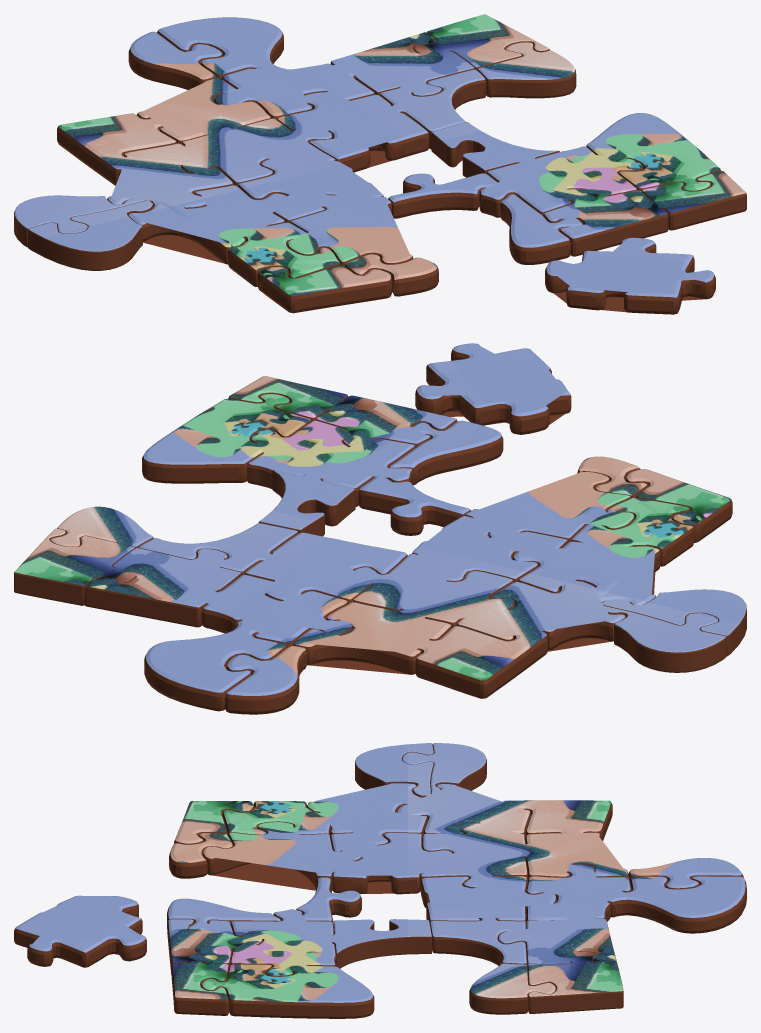
File: puzzle.fbx
The picture shows the model from 3 angles, top to bottom: view 1: azimuth 30°, elevation 25°; view 2: azimuth 150°, elevation 25°; view 3: azimuth 270°, elevation 25°; orthographic projection. The views are drawn at different scales.
Parts seen in each view (by area): view 1: BezierCircle.008, BezierCircle.020, BezierCircle.006, BezierCircle.011, BezierCircle.004, BezierCircle.012, BezierCircle.019, BezierCircle.016, BezierCircle.014, BezierCircle.025, BezierCircle.029, BezierCircle.018 (+16 smaller); view 2: BezierCircle.008, BezierCircle.012, BezierCircle.024, BezierCircle.011, BezierCircle.026, BezierCircle.018, BezierCircle.029, BezierCircle.004, BezierCircle.020, BezierCircle.019, BezierCircle.006, BezierCircle.025 (+16 smaller); view 3: BezierCircle.008, BezierCircle.012, BezierCircle.004, BezierCircle.029, BezierCircle.007, BezierCircle.011, BezierCircle.020, BezierCircle.019, BezierCircle.023, BezierCircle.006, BezierCircle.018, BezierCircle.025 (+16 smaller).
Boxes of the visible parts, <box> form: BezierCircle.008: <box>545,237,715,314</box>; BezierCircle.020: <box>277,92,429,172</box>; BezierCircle.006: <box>128,185,288,264</box>; BezierCircle.011: <box>479,146,643,217</box>; BezierCircle.004: <box>287,195,413,265</box>; BezierCircle.012: <box>586,113,720,191</box>; BezierCircle.019: <box>181,118,335,186</box>; BezierCircle.016: <box>28,200,153,270</box>; BezierCircle.014: <box>543,189,668,256</box>; BezierCircle.025: <box>214,63,374,119</box>; BezierCircle.029: <box>157,17,285,78</box>; BezierCircle.018: <box>107,143,233,208</box>; BezierCircle.008: <box>415,343,571,434</box>; BezierCircle.012: <box>142,394,311,483</box>; BezierCircle.024: <box>84,548,241,627</box>; BezierCircle.011: <box>247,420,415,506</box>; BezierCircle.026: <box>292,600,452,674</box>; BezierCircle.018: <box>457,580,625,651</box>; BezierCircle.029: <box>144,620,287,711</box>; BezierCircle.004: <box>465,471,634,542</box>; BezierCircle.020: <box>245,532,407,603</box>; BezierCircle.019: <box>353,553,515,627</box>; BezierCircle.006: <box>512,541,660,605</box>; BezierCircle.025: <box>190,574,353,647</box>; BezierCircle.008: <box>14,895,146,967</box>; BezierCircle.012: <box>201,964,374,1018</box>; BezierCircle.004: <box>203,822,362,890</box>; BezierCircle.029: <box>605,876,746,933</box>; BezierCircle.007: <box>330,832,452,894</box>; BezierCircle.011: <box>230,909,336,976</box>; BezierCircle.020: <box>420,876,557,923</box>; BezierCircle.019: <box>420,823,527,890</box>; BezierCircle.023: <box>527,951,623,1013</box>; BezierCircle.006: <box>306,783,427,845</box>; BezierCircle.018: <box>397,784,531,838</box>; BezierCircle.025: <box>526,864,631,926</box>.
Bounding box in the file's own units: 453 × 15.22 × 540.
